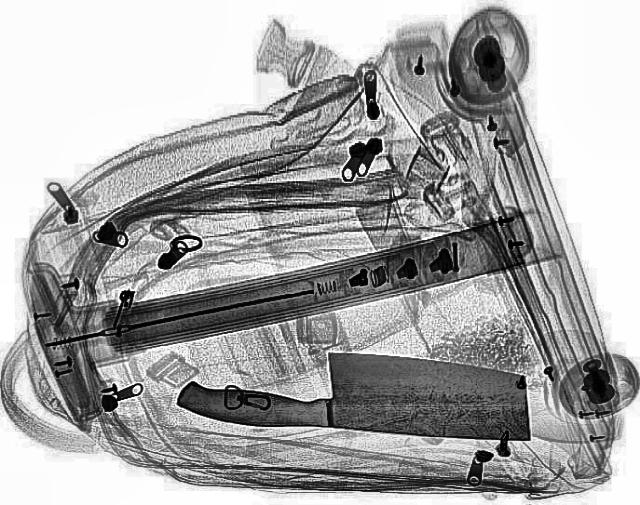Knife: (168, 332, 546, 452)
